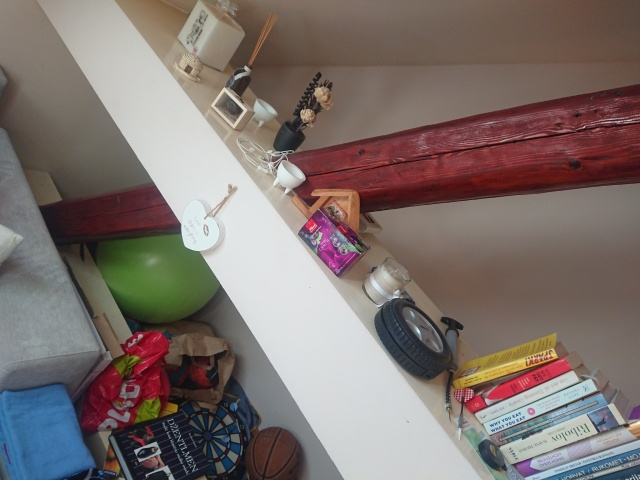Franck Black Currant Tea 60g: (295, 205, 373, 278)
